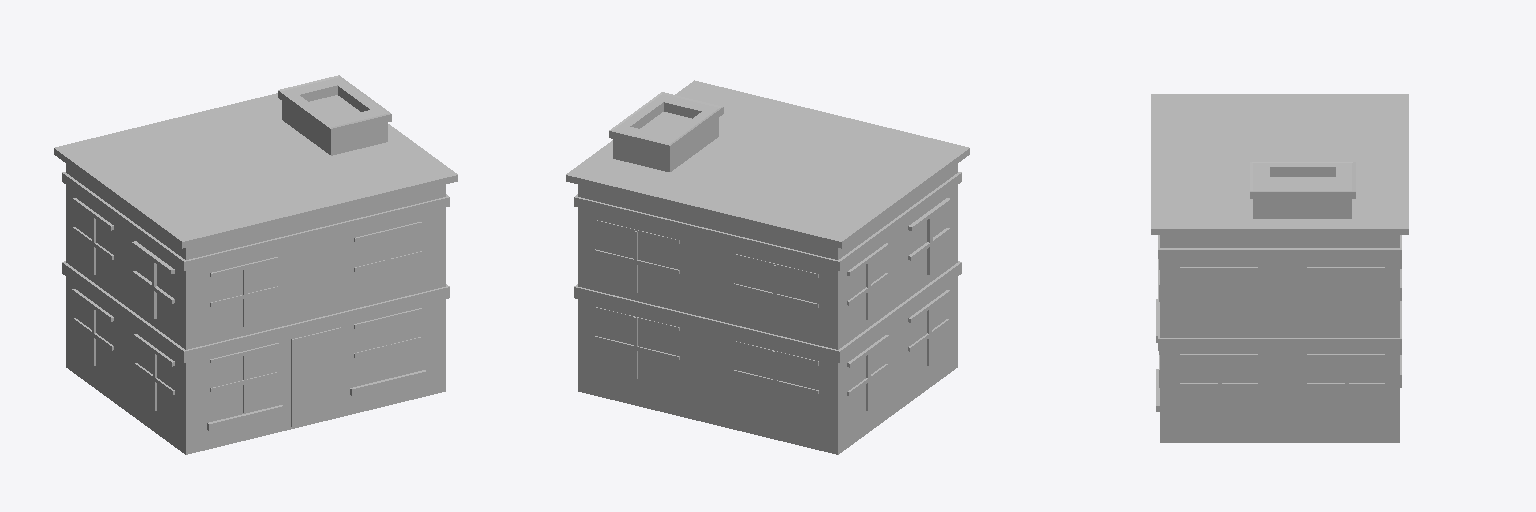
The model's file is BuildingToonTest (1).obj.
3 views of the same model, side by side, from view 1: azimuth 30°, elevation 25°; view 2: azimuth 150°, elevation 25°; view 3: azimuth 270°, elevation 25° (orthographic).
Visible parts, largest first — view 1: pCube26, pCube29, pCube28, pCube27; view 2: pCube26; view 3: pCube26.
Part boxes in pixels (x1,y1,x2,y2): pCube26: (54,75,457,454); pCube29: (291,327,341,427); pCube28: (350,370,426,395); pCube27: (207,405,283,430); pCube26: (566,80,969,454); pCube26: (1151,94,1408,442).
Size of the model in its own units: 1.74 by 1.49 by 1.41.